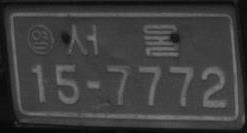-: (84, 78, 102, 92)
1: (28, 64, 53, 102)
2: (201, 65, 228, 108)
5: (54, 63, 80, 104)
7: (105, 63, 132, 106), (168, 64, 194, 107), (137, 63, 162, 107)
영: (66, 22, 180, 58), (26, 22, 54, 55)
